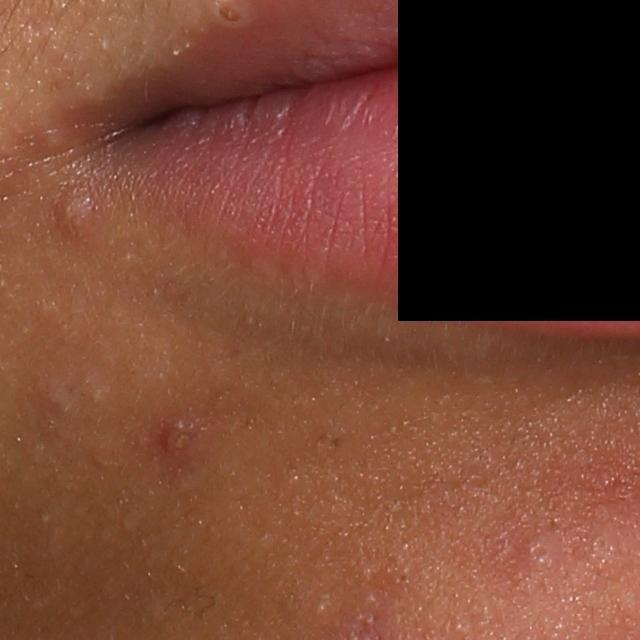comedo: (213, 6, 241, 31)
papule: (156, 410, 210, 466), (52, 193, 98, 241)
